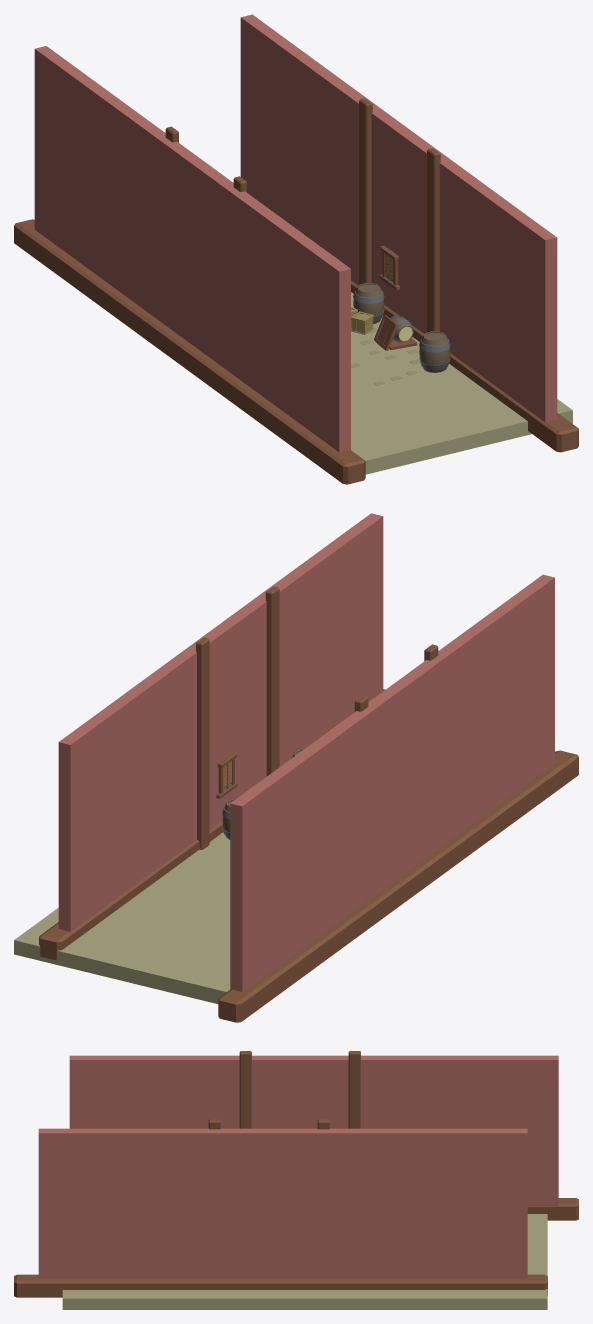
Rendered from 3DMenu_01.fbx.
The picture shows the model from 3 angles, top to bottom: view 1: azimuth 30°, elevation 25°; view 2: azimuth 150°, elevation 25°; view 3: azimuth 270°, elevation 25°; orthographic projection. The views are drawn at different scales.
Parts seen in each view (by area): view 1: LH_Wall_GEO, RH_Wall_GEO, Floor_GEO, LH_BarStrip_GEO, RH_BarStrip_GEO, RH_VerticalStrip_GEO_04, RH_VerticalStrip_GEO_03, RH_Junk_GEO1, RH_Barrell_GEO, RH_Junk_GEO2; view 2: LH_Wall_GEO, RH_Wall_GEO, Floor_GEO, LH_BarStrip_GEO, RH_VerticalStrip_GEO_04, RH_VerticalStrip_GEO_03, RH_BarStrip_GEO; view 3: RH_Wall_GEO, LH_Wall_GEO, Floor_GEO, RH_BarStrip_GEO, LH_VerticalStrip_GEO_01, LH_VerticalStrip_GEO_02, LH_BarStrip_GEO.
Part boxes in pixels (box(x1,y1,x2,y2)): LH_Wall_GEO: box(34, 46, 350, 452); RH_Wall_GEO: box(240, 14, 557, 422); Floor_GEO: box(351, 292, 572, 474); LH_BarStrip_GEO: box(14, 219, 365, 484); RH_BarStrip_GEO: box(351, 280, 578, 452); RH_VerticalStrip_GEO_04: box(359, 98, 372, 284); RH_VerticalStrip_GEO_03: box(427, 148, 440, 332); RH_Junk_GEO1: box(351, 283, 384, 334); RH_Barrell_GEO: box(419, 331, 450, 372); RH_Junk_GEO2: box(374, 314, 417, 350); LH_Wall_GEO: box(230, 574, 554, 991); RH_Wall_GEO: box(58, 513, 383, 931); Floor_GEO: box(14, 832, 230, 1003); LH_BarStrip_GEO: box(218, 750, 578, 1022); RH_VerticalStrip_GEO_04: box(196, 637, 209, 849); RH_VerticalStrip_GEO_03: box(265, 586, 279, 776); RH_BarStrip_GEO: box(39, 689, 385, 960); RH_Wall_GEO: box(38, 1128, 527, 1278); LH_Wall_GEO: box(69, 1055, 558, 1205); Floor_GEO: box(62, 1214, 547, 1309); RH_BarStrip_GEO: box(14, 1274, 547, 1297); LH_VerticalStrip_GEO_01: box(348, 1051, 360, 1128); LH_VerticalStrip_GEO_02: box(239, 1051, 251, 1128); LH_BarStrip_GEO: box(527, 1198, 578, 1220).
Bounding box in the file's own units: 119 × 102 × 303.
